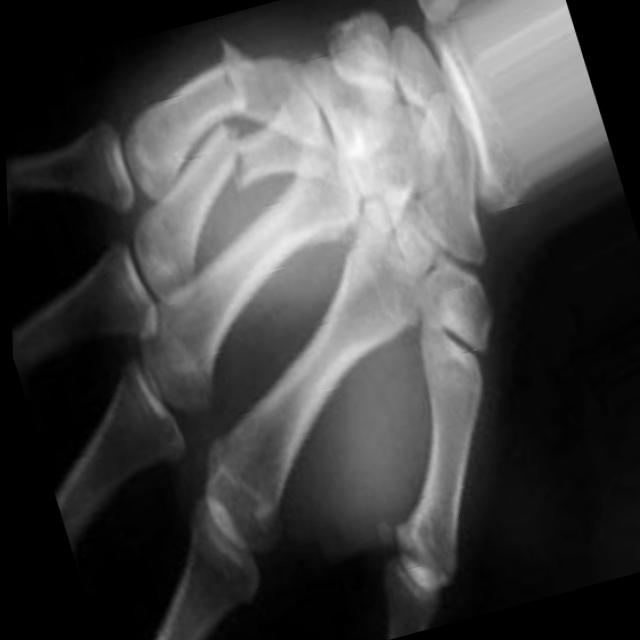fracture: (203, 32, 268, 118), (204, 121, 270, 205)
